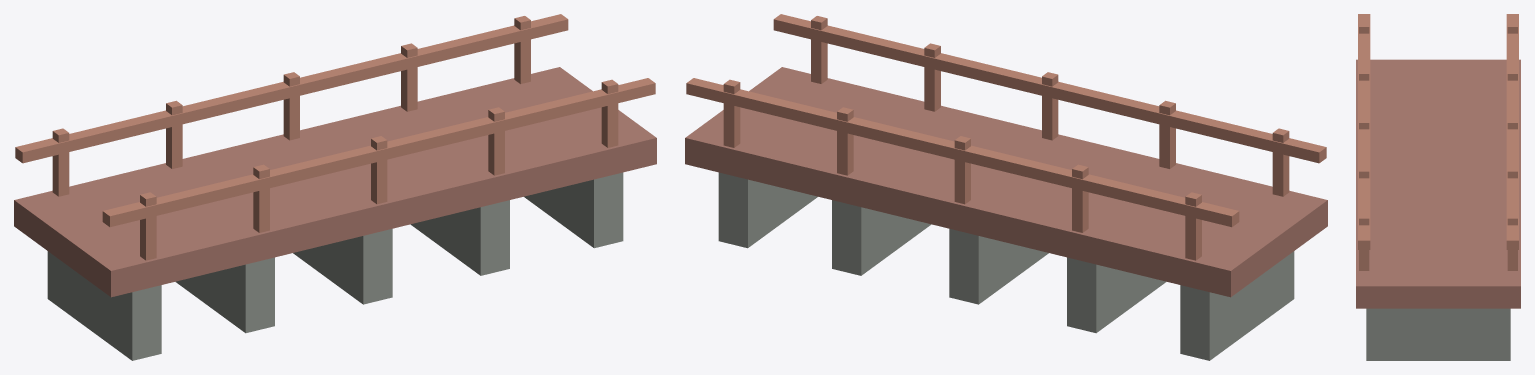
3 renders of one model, left to right at view 1: azimuth 30°, elevation 25°; view 2: azimuth 150°, elevation 25°; view 3: azimuth 270°, elevation 25°, orthographic. The views are drawn at different scales.
Parts seen in each view (by area): view 1: Visual; view 2: Visual; view 3: Visual.
Part boxes in pixels (box(x1,y1,x2,y2)): Visual: box(14, 14, 656, 360); Visual: box(685, 14, 1327, 360); Visual: box(1356, 14, 1520, 360).
Size of the model in its own units: 13 by 3.7 by 4.
